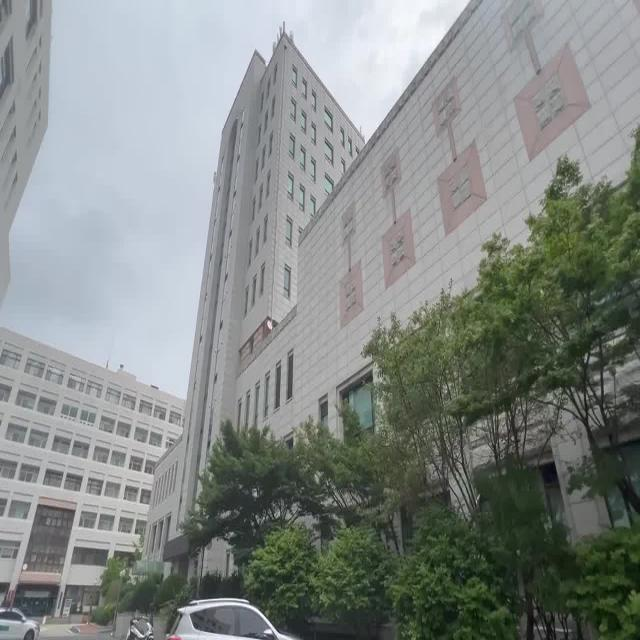building: (195, 19, 453, 336)
